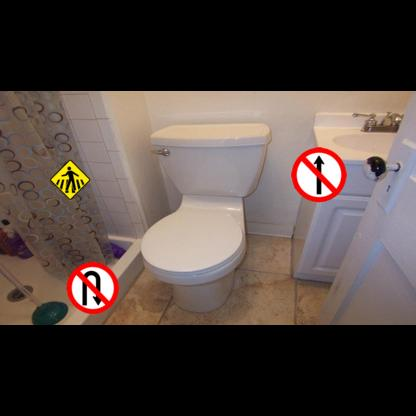A-32b: (49, 159, 91, 200)
R-3: (291, 147, 347, 202)
